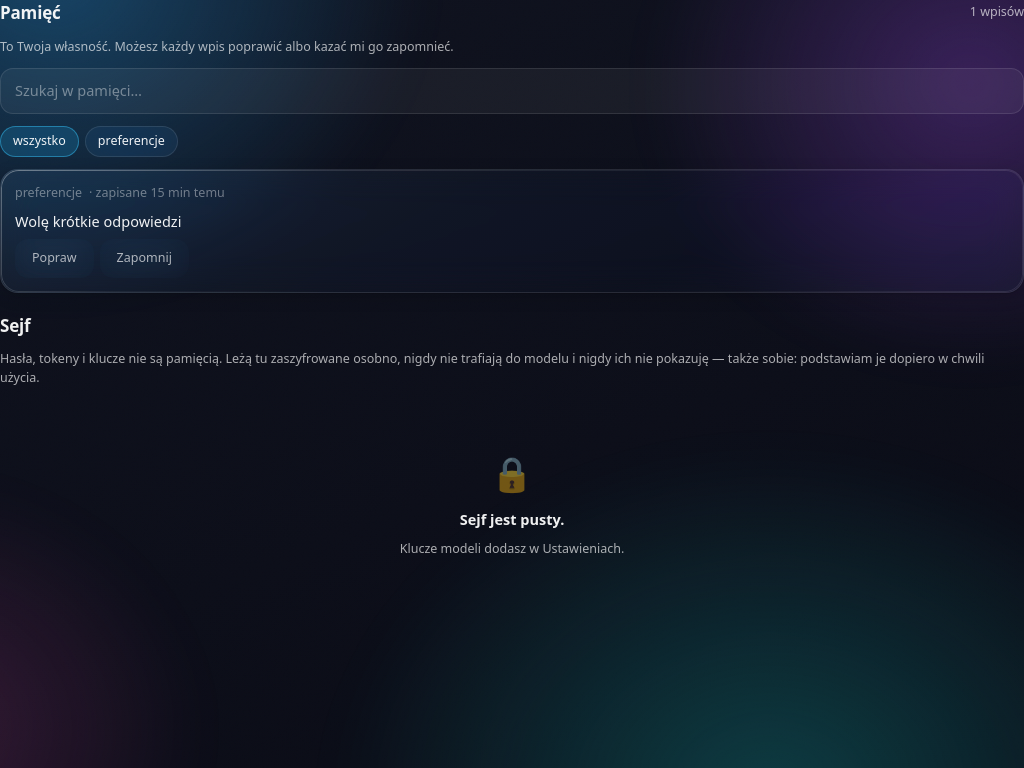
it: memory and the vault › lets a memory be corrected and forgotten, because it is the user's
The width and height of the screenshot is (1024, 768).
Later steps or results of the test are not shown.
Expected: the text "Wolę krótkie odpowiedzi" is shown, [15, 210, 181, 230]
Click the button "Zapomnij".
click(144, 258)  # box [100, 239, 189, 278]
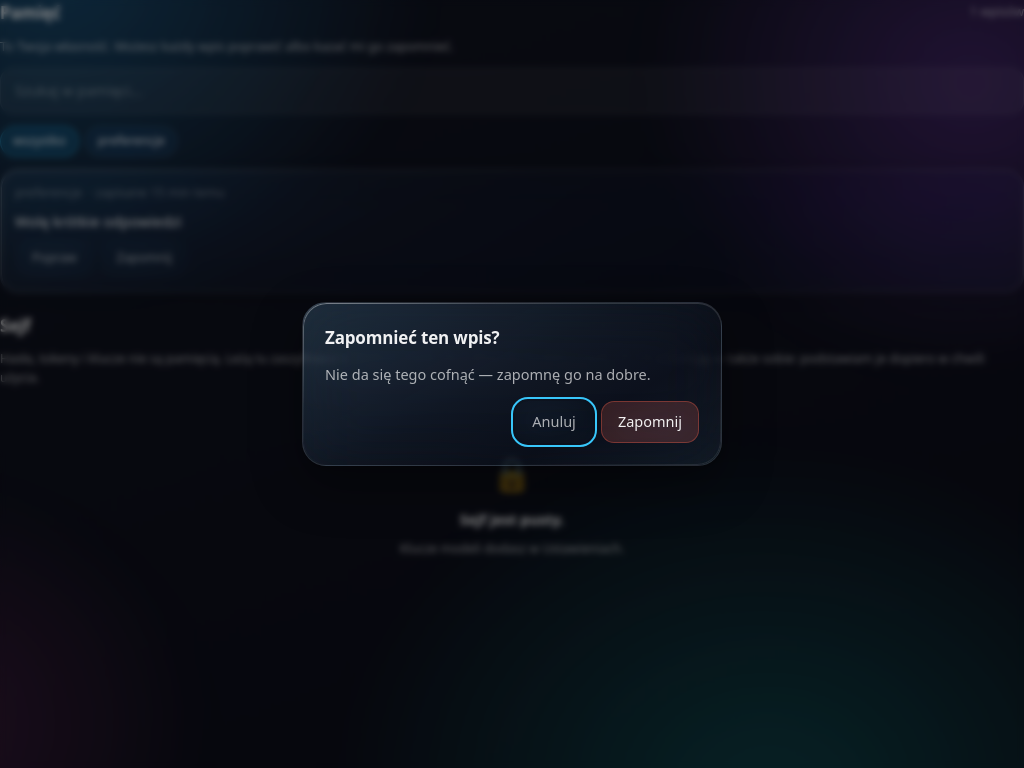
Expected: the dialog shows "Nie da się tego cofnąć", [325, 364, 651, 384]
